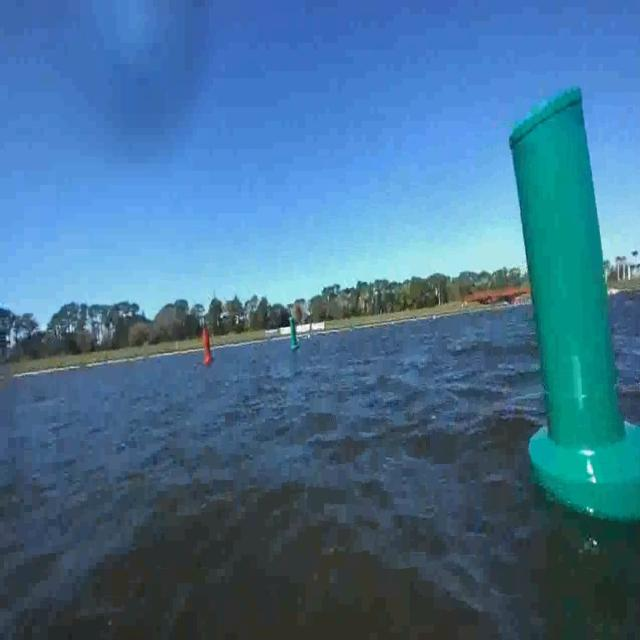green-column-buoy: (496, 125, 640, 518), (281, 310, 301, 358)
red-column-buoy: (195, 316, 219, 366)
